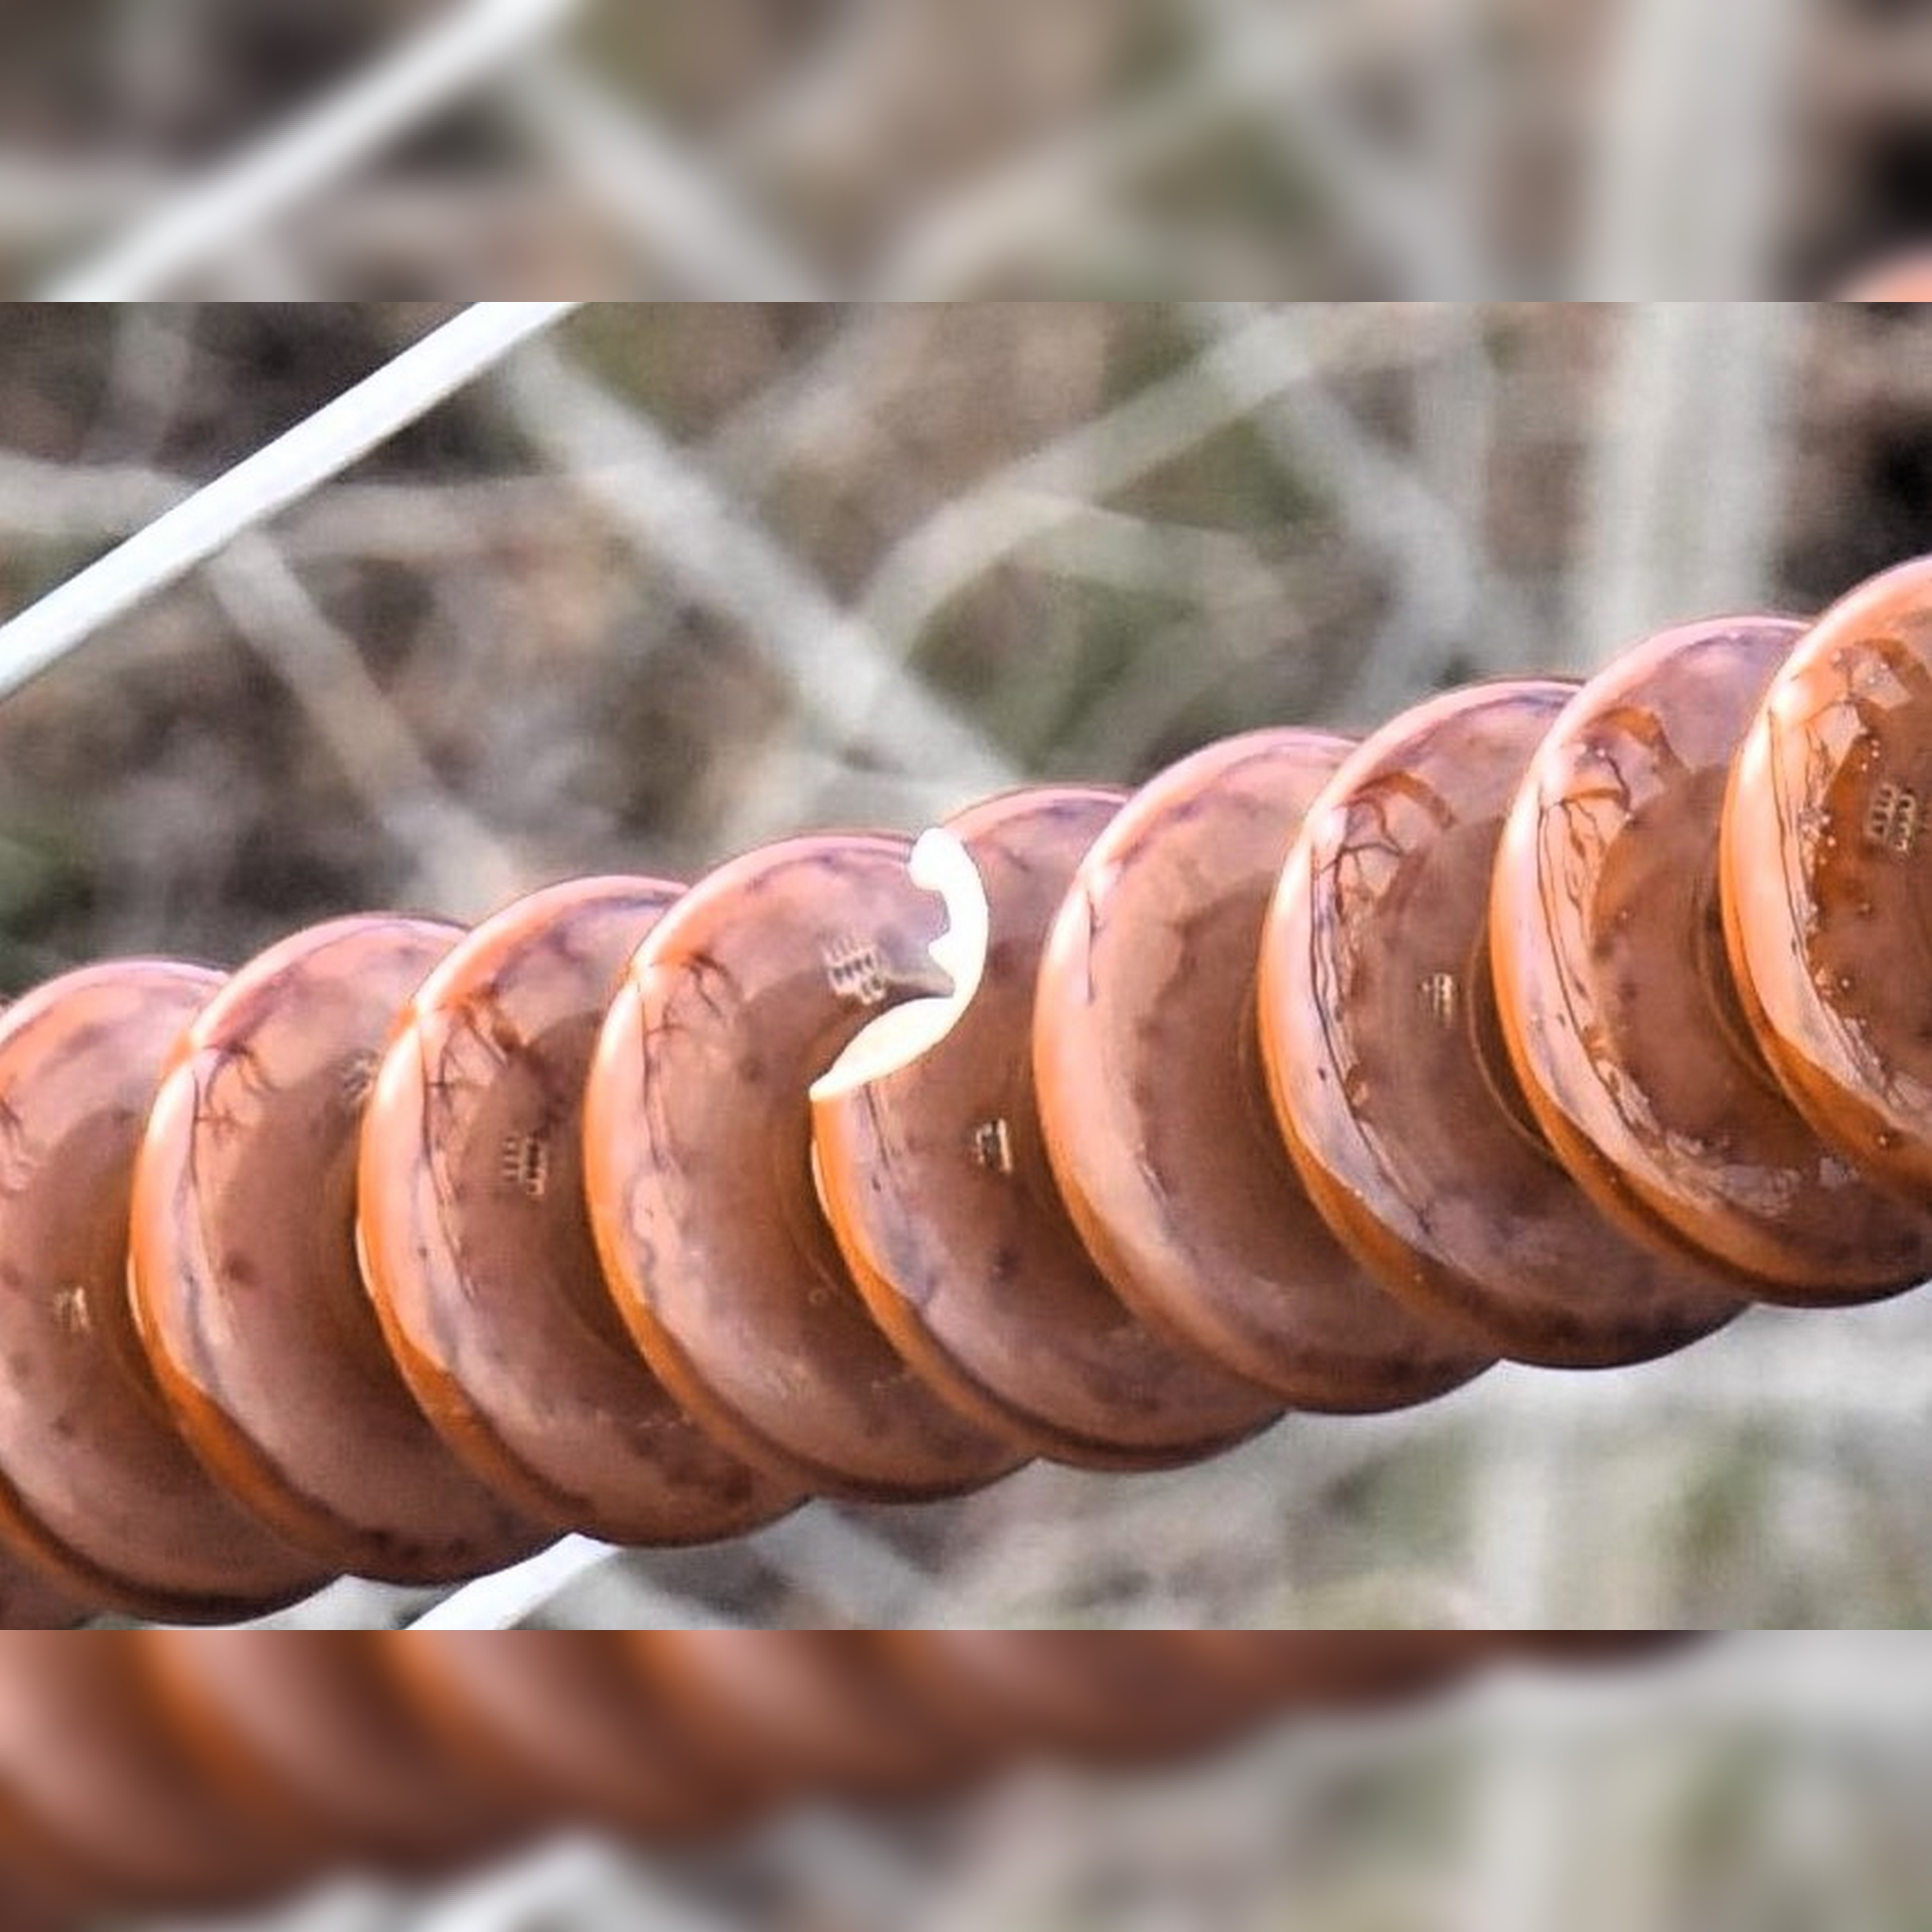insulator breakage: (800, 777, 1290, 1476)
